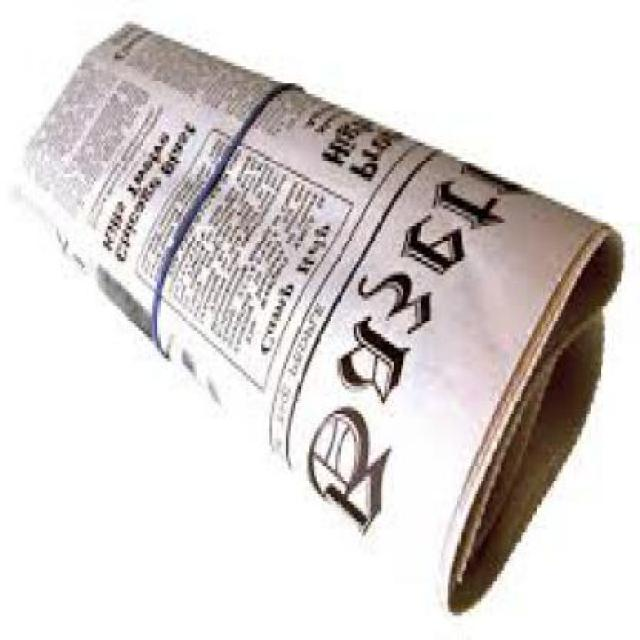PAPER: (23, 21, 626, 608)
